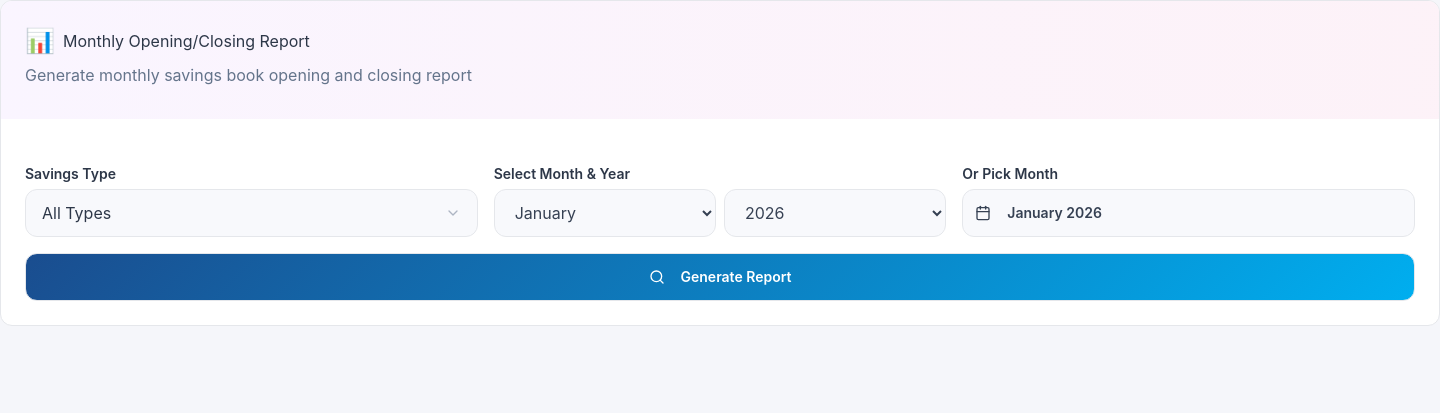
Scenario: UC10 - Monthly Open/Close Report › E) Empty Result State › should show No Data Found message when report returns empty
Click the button "Generate Report": (720, 277) [25,253,1415,301]
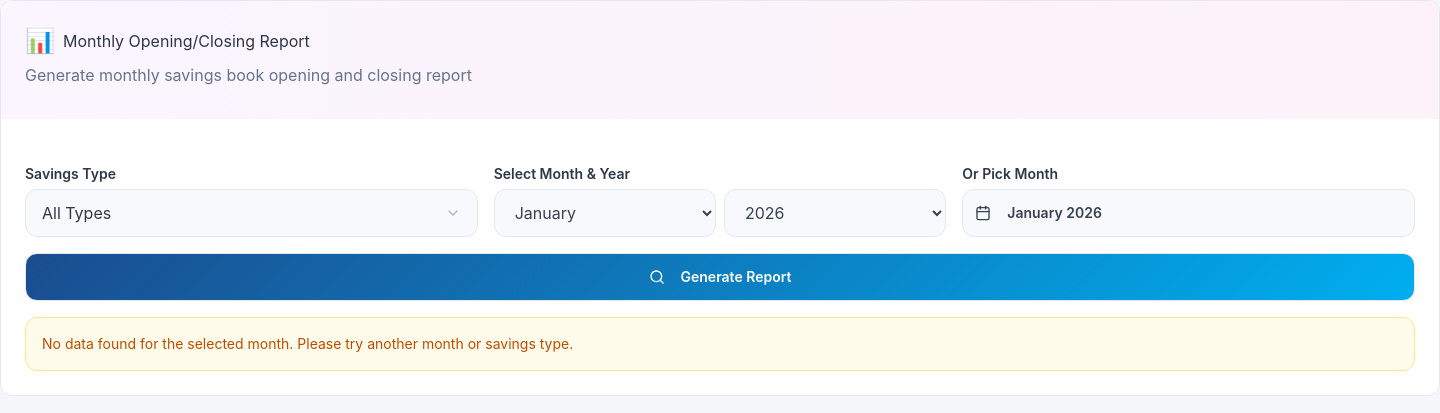
Expected: the text "No data found for the selected month" is shown, [42,335,573,352]
